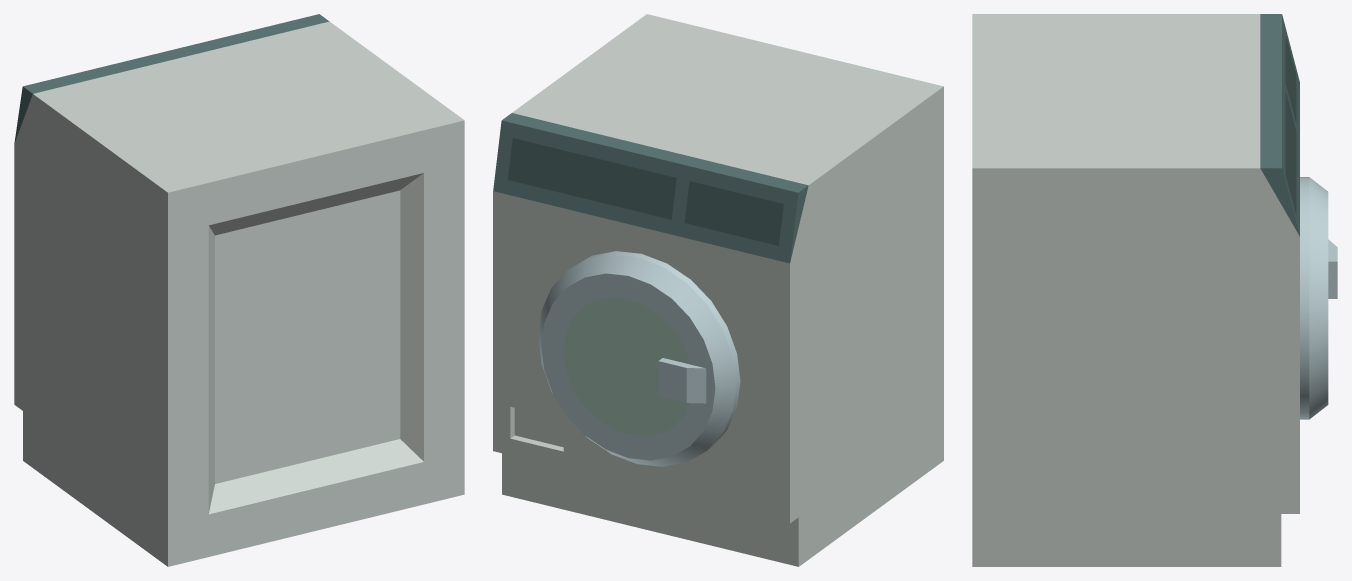
File: washer.glb
3 renders of one model, left to right at view 1: azimuth 30°, elevation 25°; view 2: azimuth 150°, elevation 25°; view 3: azimuth 270°, elevation 25°, orthographic. The views are drawn at different scales.
Visible parts, largest first — view 1: washer; view 2: washer, washerDoor; view 3: washer, washerDoor.
Part boxes in pixels (x1,y1,x2,y2): washer: [14, 14, 464, 566]; washer: [493, 14, 943, 566]; washerDoor: [538, 251, 740, 466]; washer: [972, 14, 1299, 566]; washerDoor: [1300, 177, 1337, 419].
Size of the model in its own units: 0.39 by 0.47 by 0.39.
